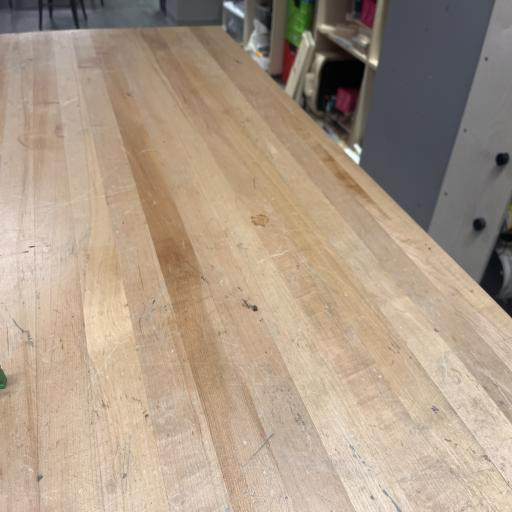Lego-Minifig: (0, 366, 7, 389)
